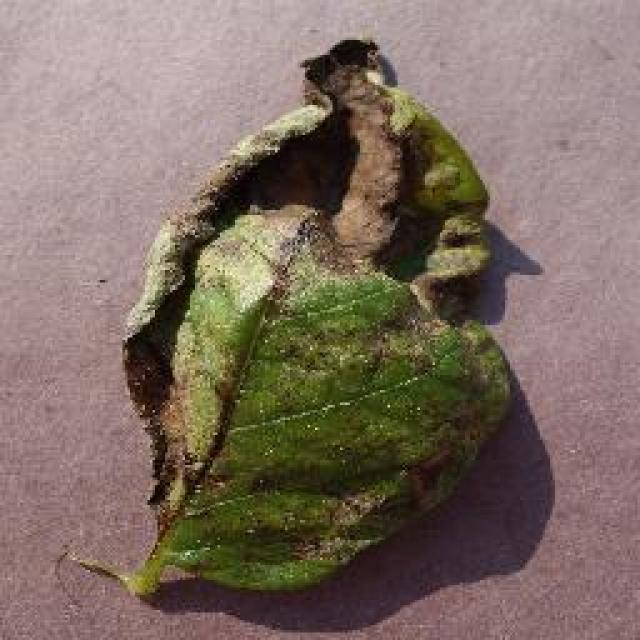green waste: (70, 0, 534, 609)
